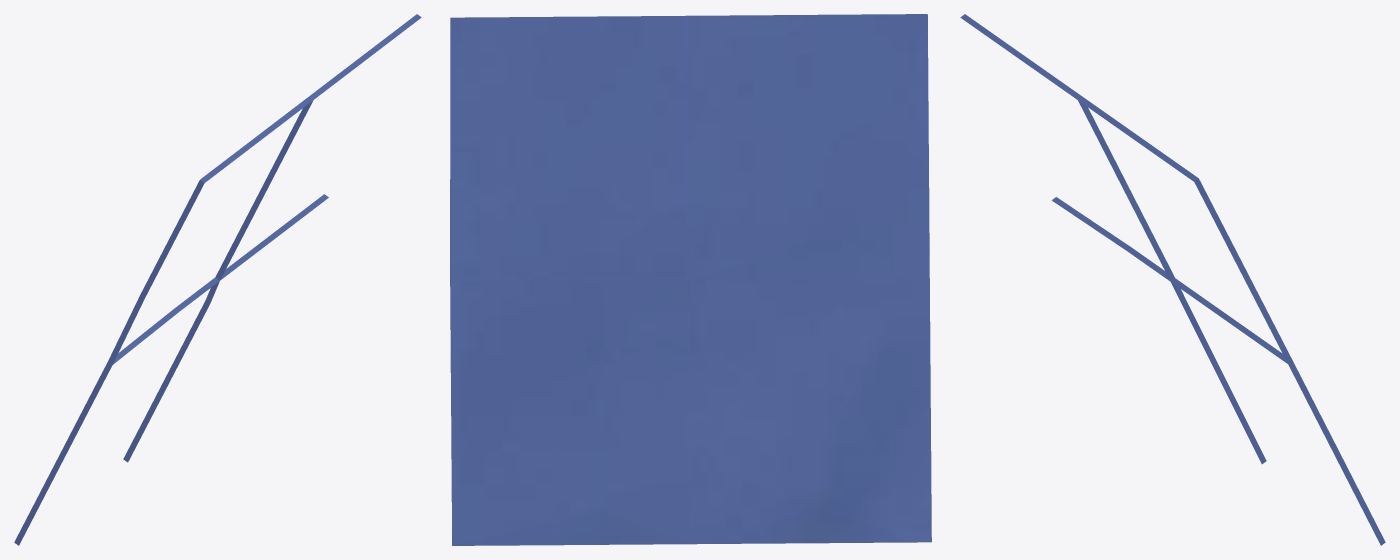
3 views of the same model, side by side, from view 1: azimuth 30°, elevation 25°; view 2: azimuth 150°, elevation 25°; view 3: azimuth 270°, elevation 25° (orthographic). The views are drawn at different scales.
Size of the model in its own units: 19623 by 17822 by 16612.
1 material, 1 textured.
